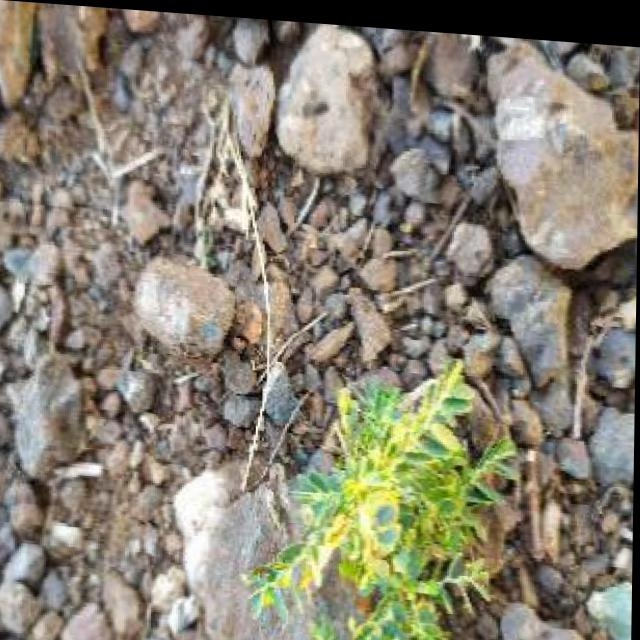weed: (267, 307, 520, 640)
